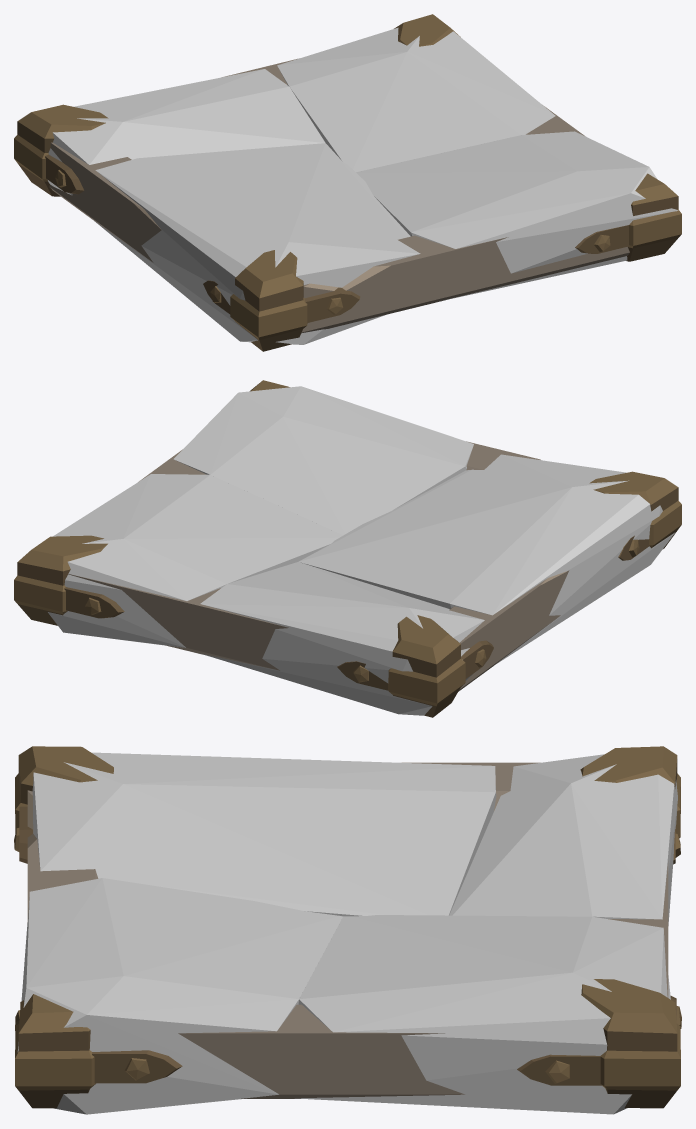
The model's file is SM_Prop_Crate07_lid.fbx.
3 renders of one model, top to bottom at view 1: azimuth 30°, elevation 25°; view 2: azimuth 150°, elevation 25°; view 3: azimuth 270°, elevation 25°, orthographic. The views are drawn at different scales.
Visible parts, largest first — view 1: SM_Prop_Crate07_lid_ConvexHulls, SM_Prop_Crate07_lid; view 2: SM_Prop_Crate07_lid_ConvexHulls, SM_Prop_Crate07_lid; view 3: SM_Prop_Crate07_lid_ConvexHulls, SM_Prop_Crate07_lid.
Part boxes in pixels (x1,y1,x2,y2): SM_Prop_Crate07_lid_ConvexHulls: (48, 27, 678, 344); SM_Prop_Crate07_lid: (14, 14, 681, 351); SM_Prop_Crate07_lid_ConvexHulls: (48, 386, 675, 715); SM_Prop_Crate07_lid: (14, 380, 681, 717); SM_Prop_Crate07_lid_ConvexHulls: (17, 752, 677, 1114); SM_Prop_Crate07_lid: (14, 746, 681, 1108).
Size of the model in its own units: 91.01 by 91.01 by 15.01.
Materials: 2 (1 with a texture image).
